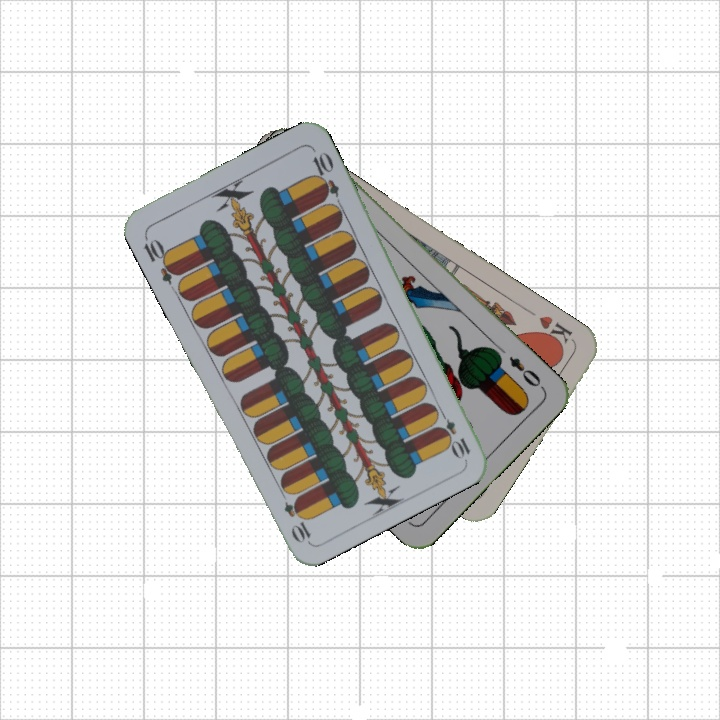E10: (139, 231, 183, 286), (433, 405, 473, 461)
EO: (505, 352, 547, 392)
HK: (533, 311, 576, 351)
